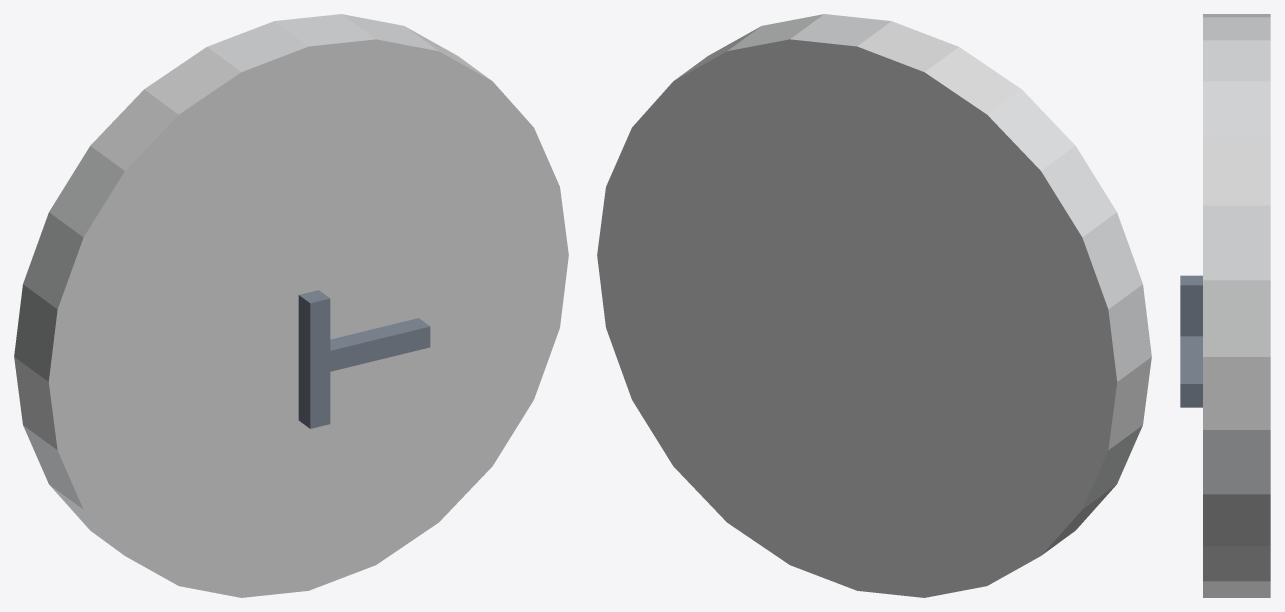
Rendered from wall_clock.glb.
The picture shows the model from 3 angles, left to right: view 1: azimuth 30°, elevation 25°; view 2: azimuth 150°, elevation 25°; view 3: azimuth 270°, elevation 25°; orthographic projection. The views are drawn at different scales.
Visible parts, largest first — view 1: clock_0, hand1_1, hand2_2; view 2: clock_0; view 3: clock_0, hand2_2, hand1_1.
Part boxes in pixels (<box>): clock_0: <box>14,14,568,597</box>; hand1_1: <box>298,290,330,428</box>; hand2_2: <box>298,318,430,376</box>; clock_0: <box>597,14,1151,597</box>; clock_0: <box>1203,14,1270,597</box>; hand2_2: <box>1180,336,1202,404</box>; hand1_1: <box>1180,275,1202,407</box>.
Size of the model in its own units: 0.52 by 0.52 by 0.08.
